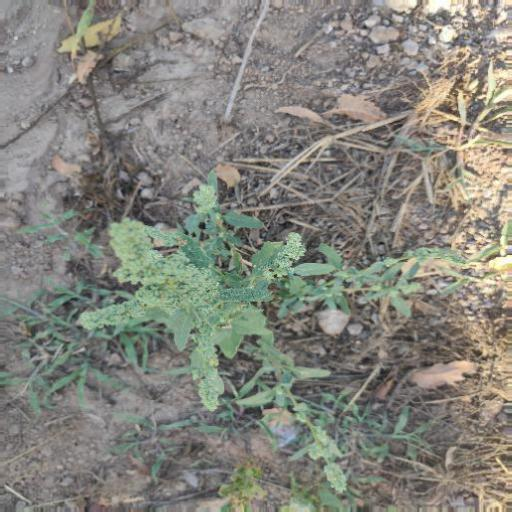weed: (88, 197, 407, 435)
